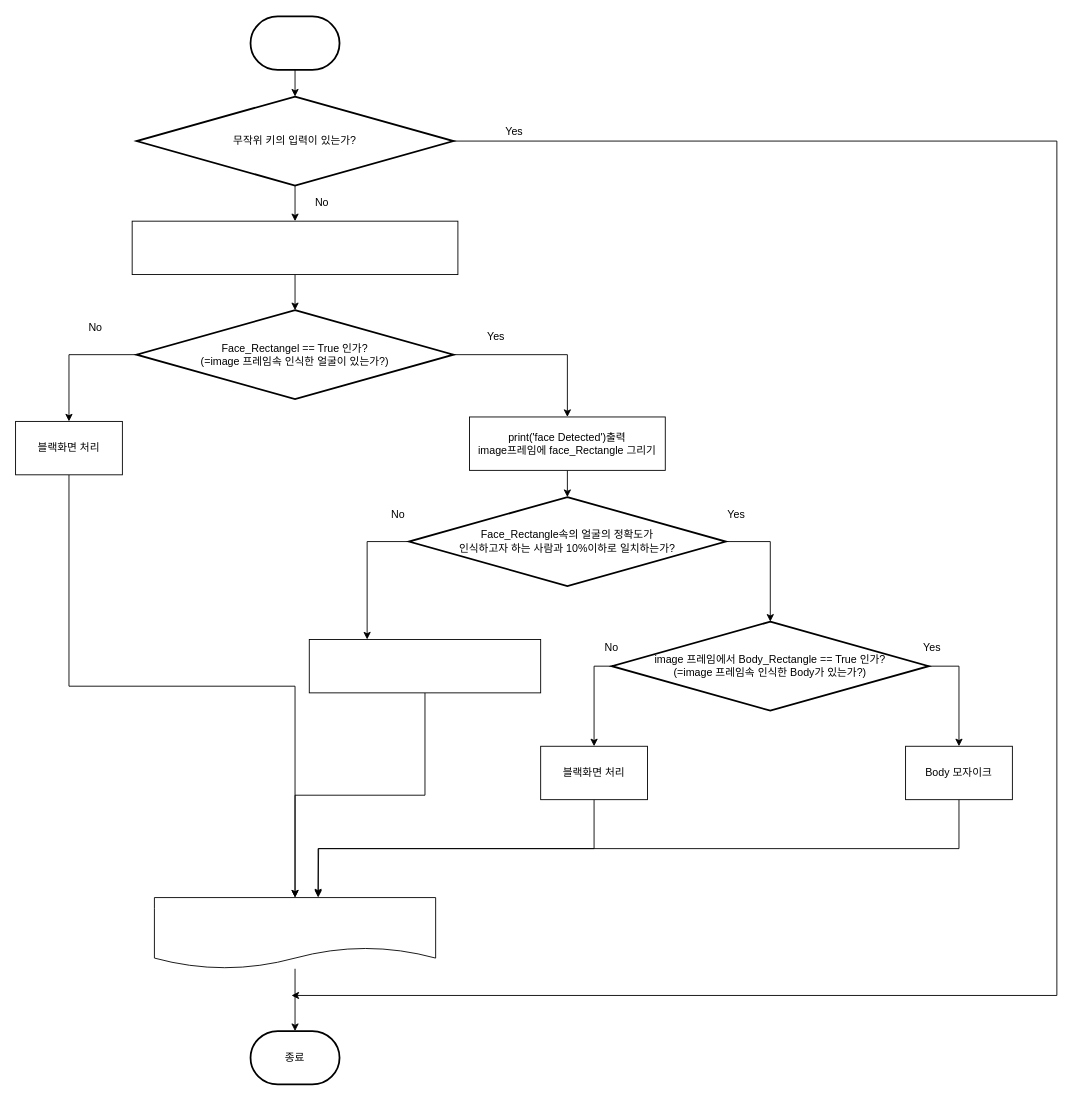
Some shapes in this 1080 by 1100 pixel diagram are drawn without their labels. Here are the shapes that lost their labels. From the top down, the centre of each, then its label:
the point at 294,42: 시작
the point at 294,247: image 프레임으로 영상 읽어오기
the point at 424,666: 인식하고자 하는 사람의 이름 출력
the point at 295,933: 영상처리화면 출력
